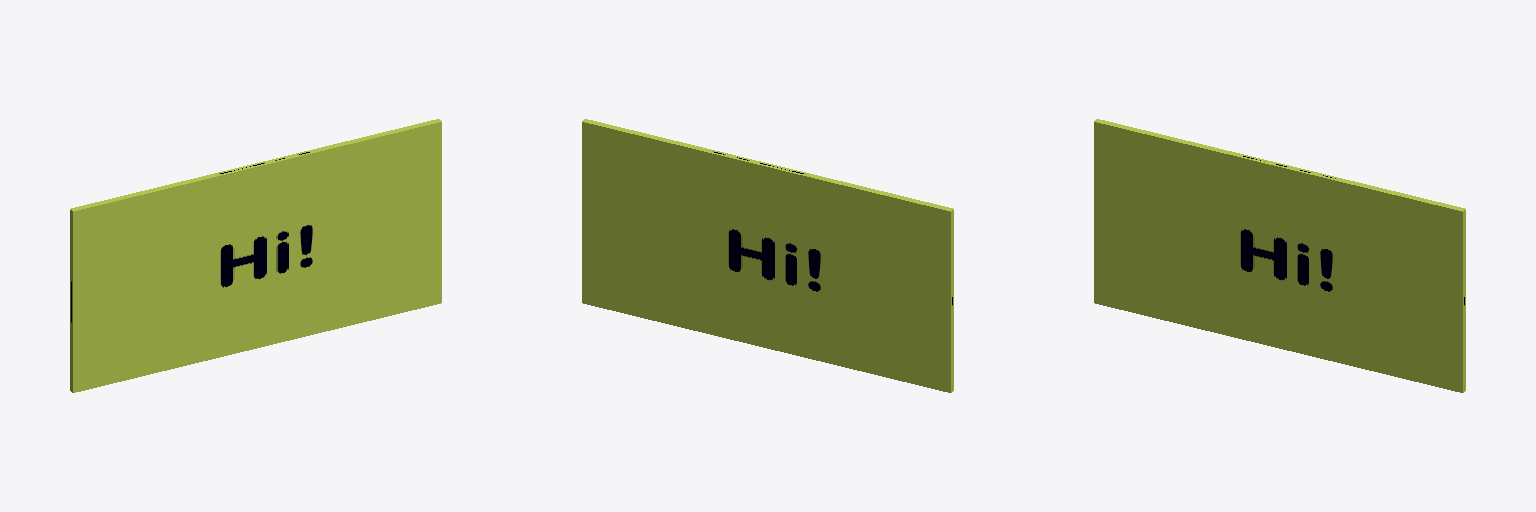
3 renders of one model, left to right at view 1: azimuth 30°, elevation 25°; view 2: azimuth 150°, elevation 25°; view 3: azimuth 330°, elevation 25°, orthographic.
Visible parts, largest first — view 1: Box001; view 2: Box001; view 3: Box001.
Boxes of the visible parts, x1,y1,x2,y2 form: Box001: [70, 119, 441, 392]; Box001: [582, 119, 953, 392]; Box001: [1094, 119, 1465, 392].
Bounding box in the file's own units: 31.29 × 14.71 × 0.5639.
Materials: 1 (1 with a texture image).